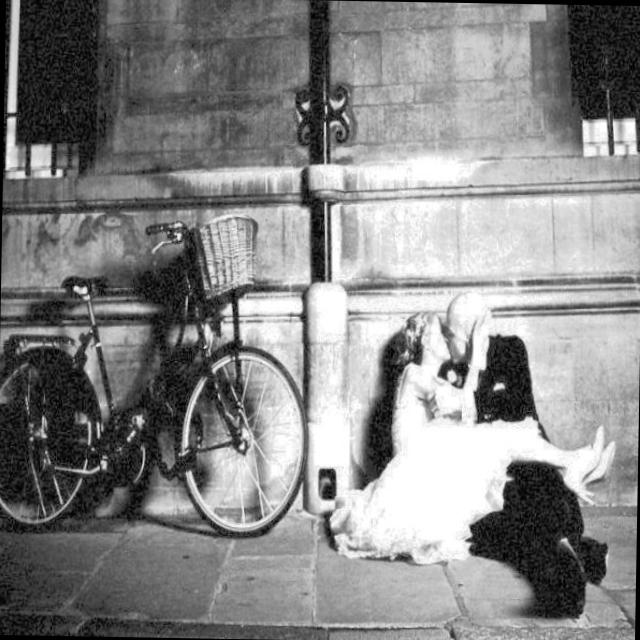Bicycle: (0, 202, 299, 547)
